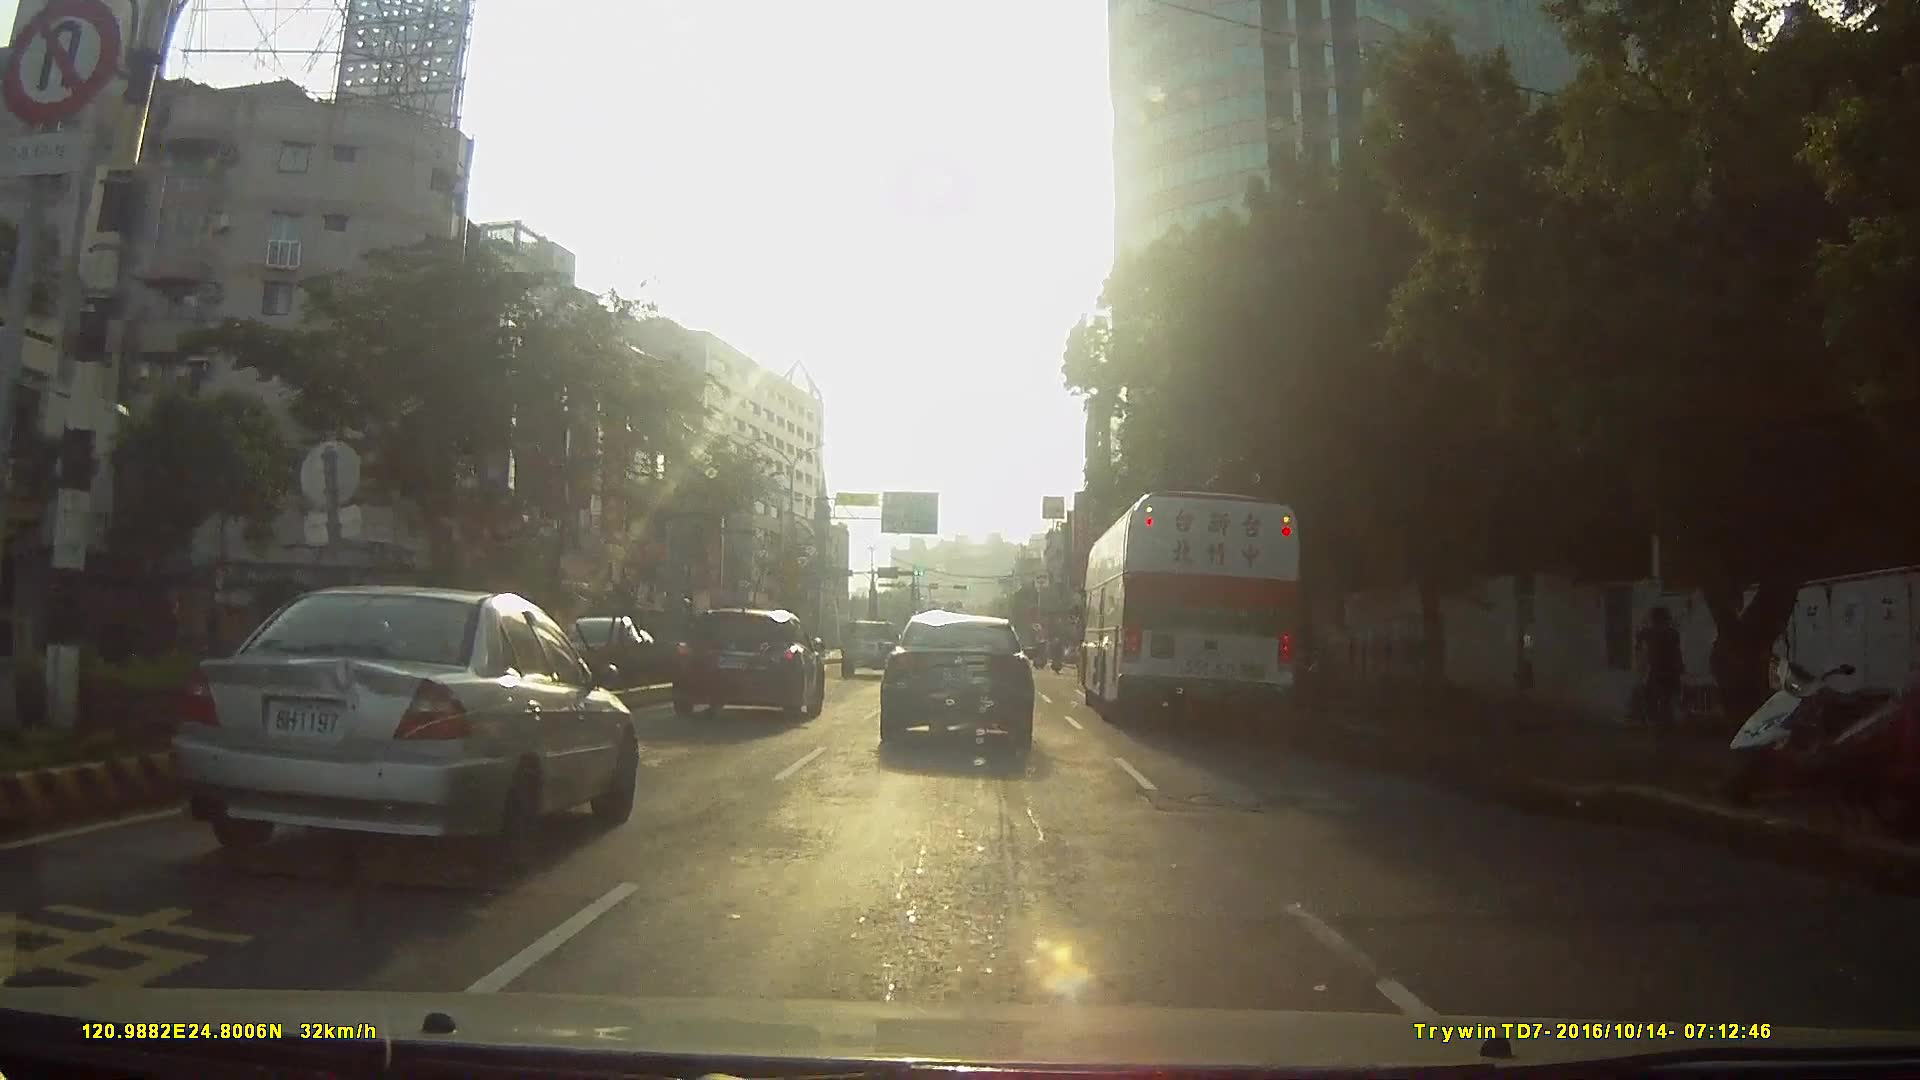pedestrian: (1639, 602, 1692, 745)
vehicle: (161, 581, 637, 880), (1083, 480, 1311, 724), (876, 609, 1037, 752), (670, 602, 825, 721), (839, 614, 901, 672)
